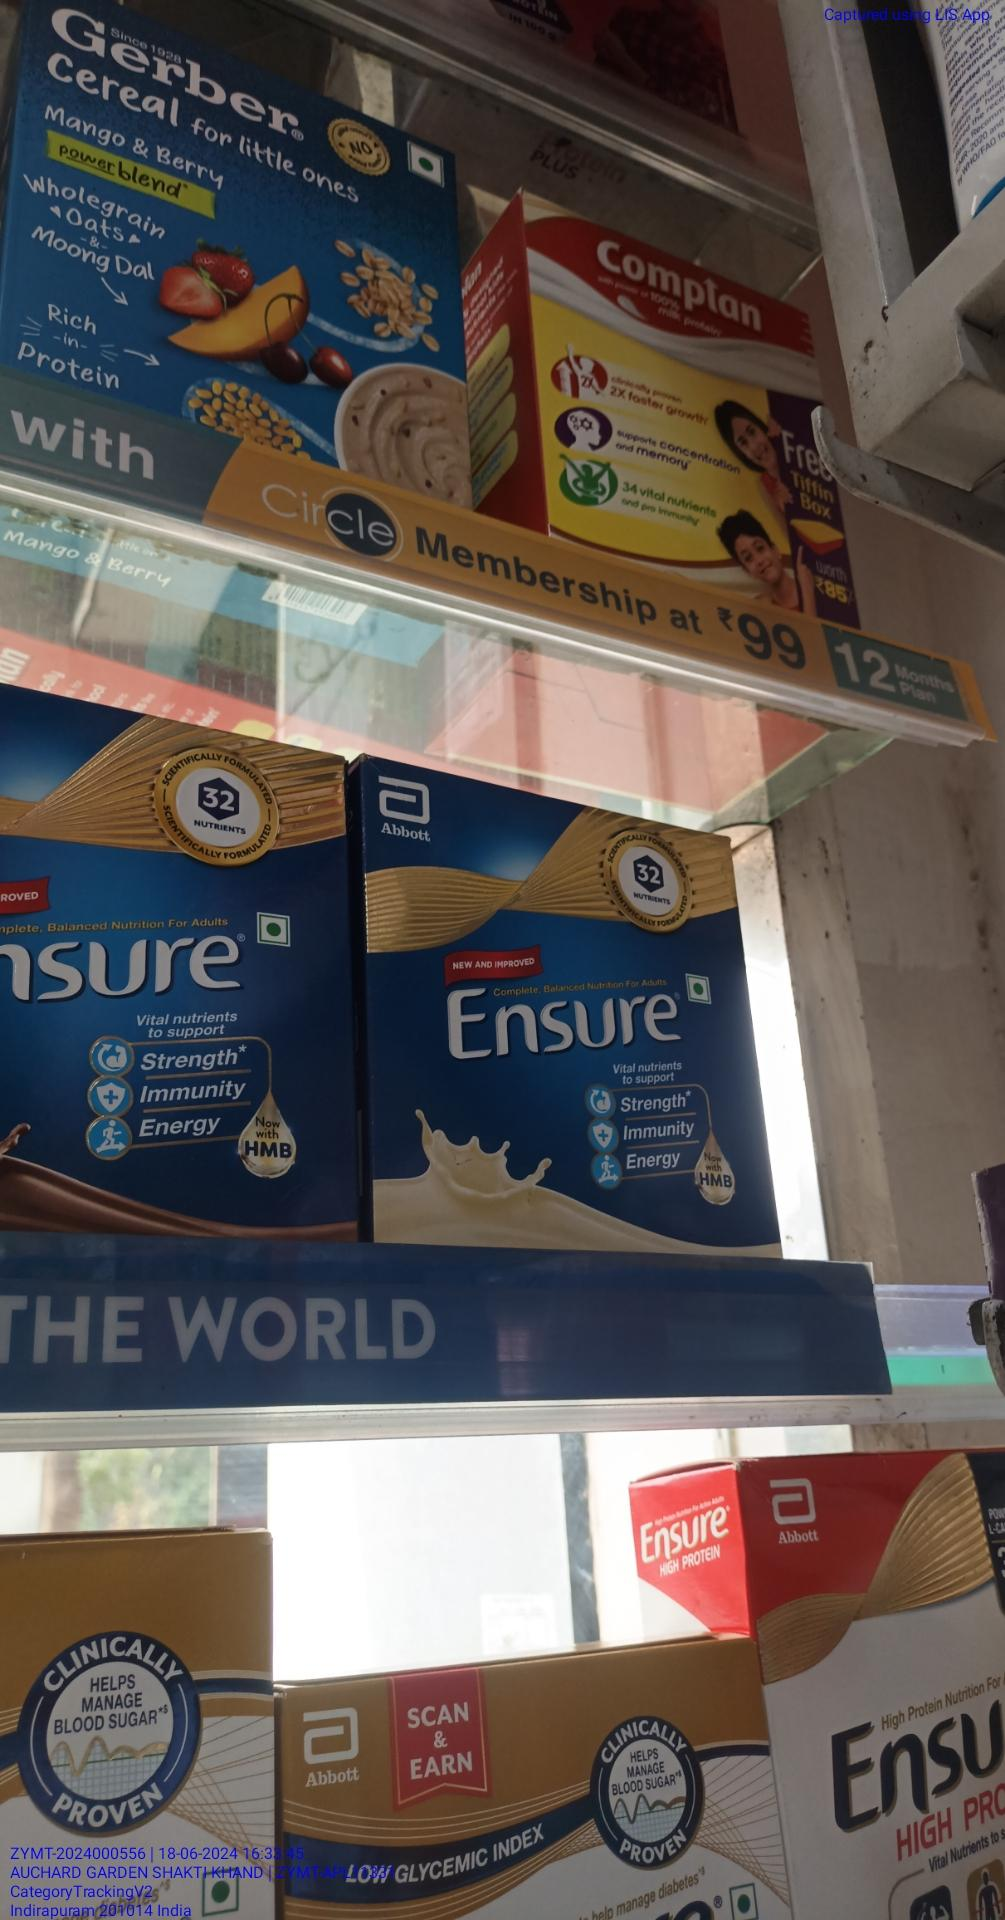ENSURE_VANILLA_400_G_PACK: (365, 787, 745, 1252)
